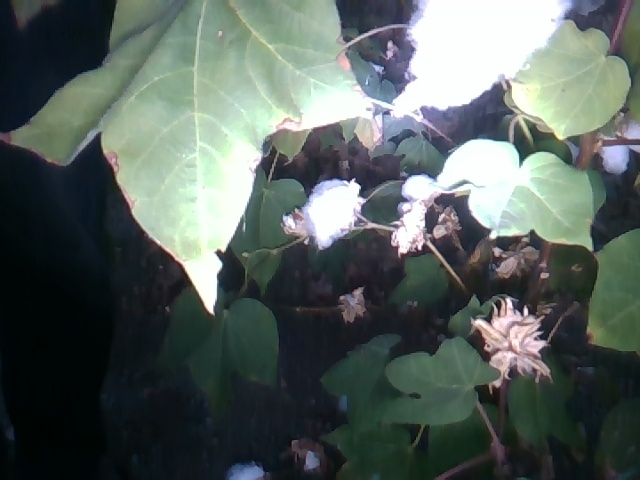cotton: (402, 1, 575, 124), (293, 177, 362, 247), (391, 200, 440, 261), (597, 118, 640, 172), (277, 435, 334, 470)
